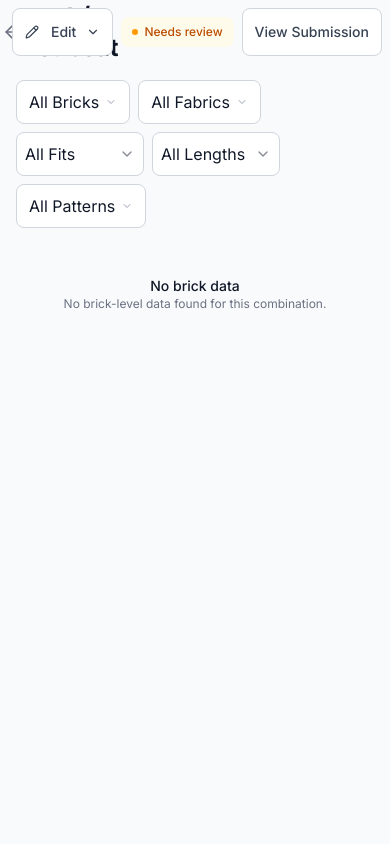
persisted PLM publication status › keeps skipped replies separate and shows review instead of success
expect the button "Needs review" is shown: met, box [121, 17, 234, 47]
What coordinates should you click on to do the following:
click the button "View Submission"
I would click on:
 (312, 32)
Its box is [242, 8, 382, 56].
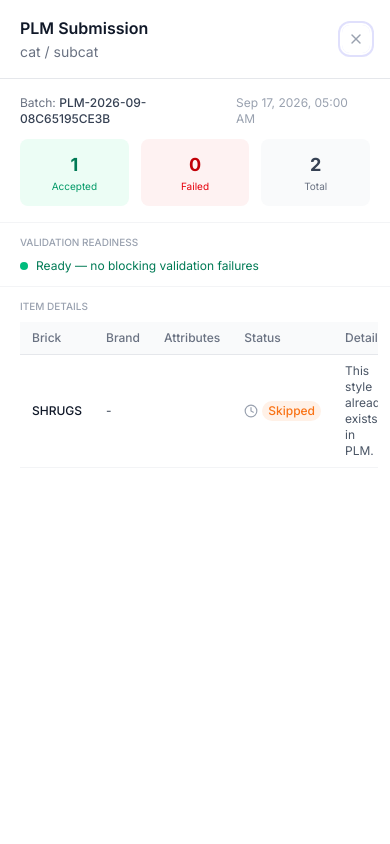
expect the column headings read "Brick", "Brand", "Attributes", "Status", "Detail", in this order: met, box [20, 322, 94, 354]; [94, 322, 152, 354]; [152, 322, 232, 354]; [232, 322, 333, 354]; [333, 322, 378, 354]
expect the cell "Skipped" is shown: met, box [232, 354, 333, 468]
